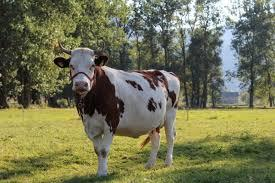cow: (55, 47, 180, 177)
